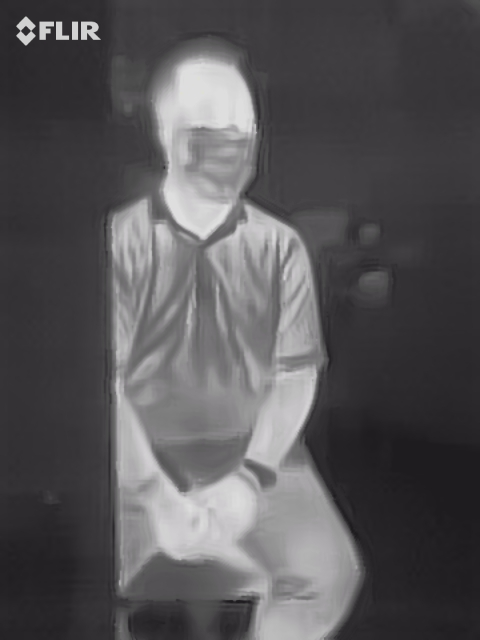head: (144, 34, 260, 204)
